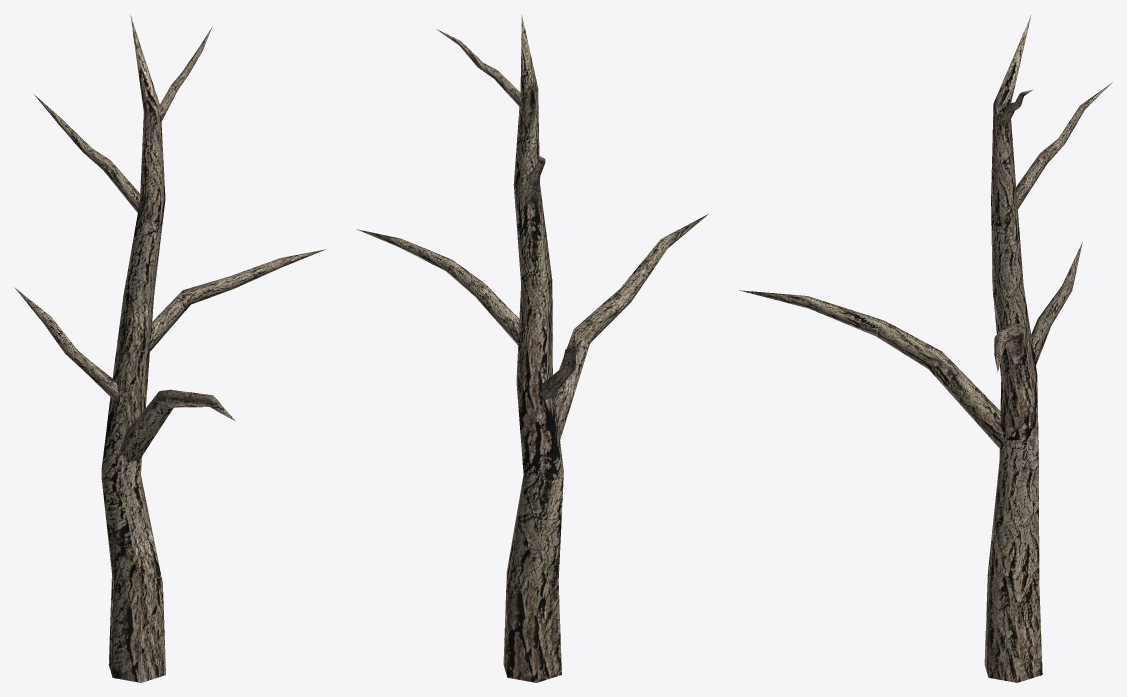
The model's file is TreeBig2.FBX.
3 views of the same model, side by side, from view 1: azimuth 30°, elevation 25°; view 2: azimuth 150°, elevation 25°; view 3: azimuth 270°, elevation 25° (orthographic).
Visible parts, largest first — view 1: objdefault; view 2: objdefault; view 3: objdefault.
Boxes of the visible parts, <box> form: objdefault: <box>14,14,325,682</box>; objdefault: <box>356,14,708,682</box>; objdefault: <box>739,15,1112,682</box>.
Size of the model in its own units: 13.96 by 31.94 by 16.52.
Materials: 1 (1 with a texture image).
